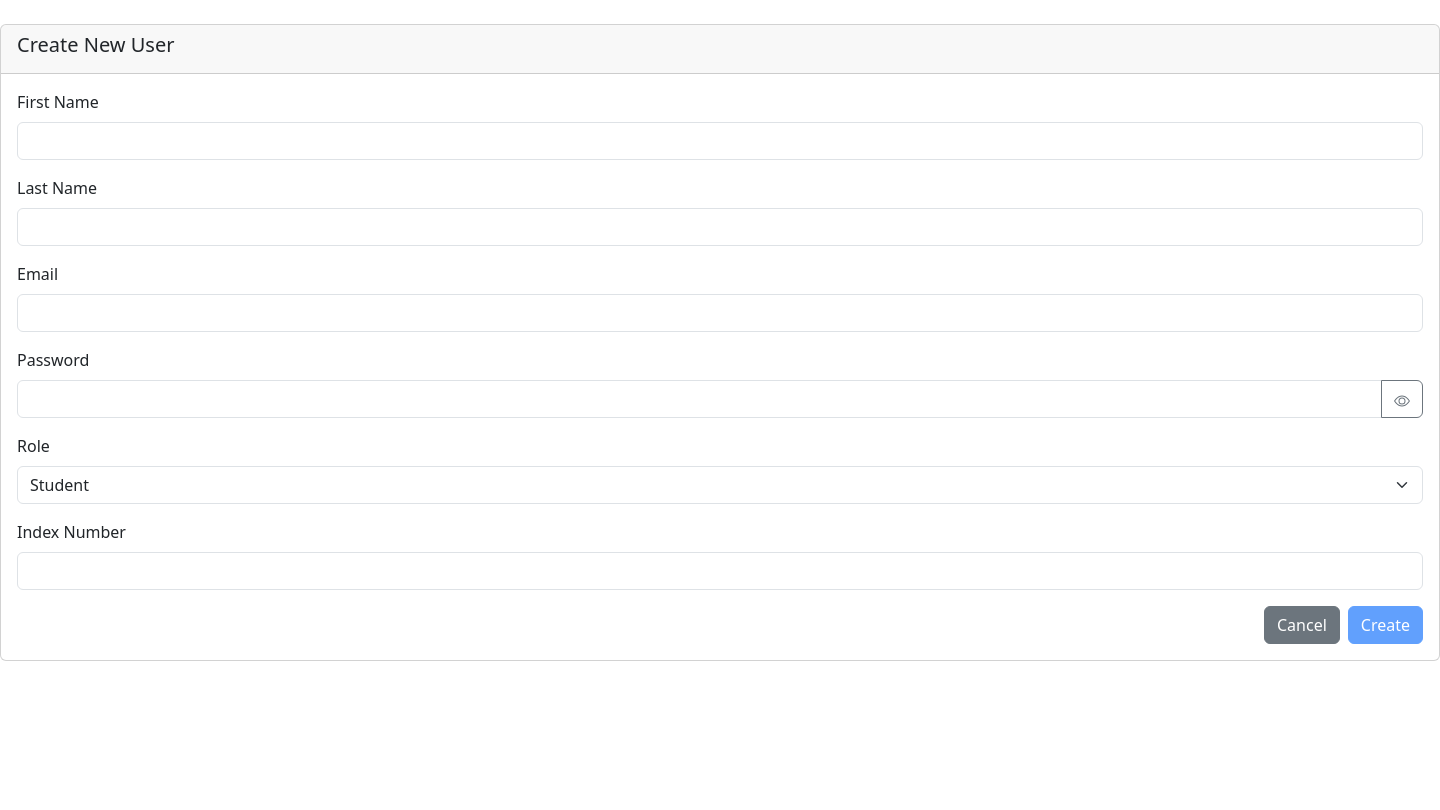
it: UserCreateForm submission › renders a server-side duplicate-email error under the Email field
This screenshot has width=1440, height=810.
Type "Ana" into the field labelled "First Name". click: (720,141)
box: [17,122,1423,160]
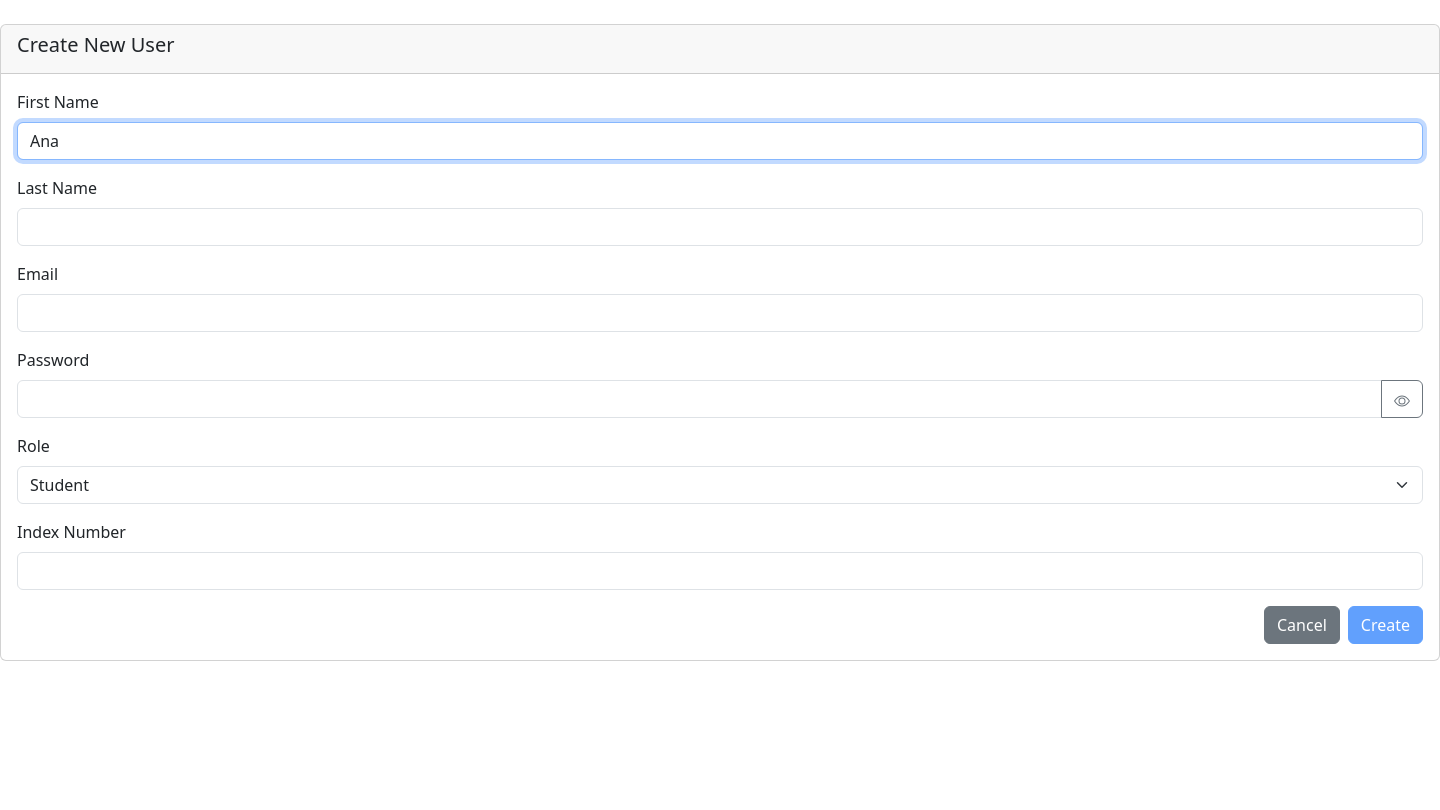
Type "Anić" into the field labelled "Last Name". click: (720,227)
box: [17,208,1423,246]
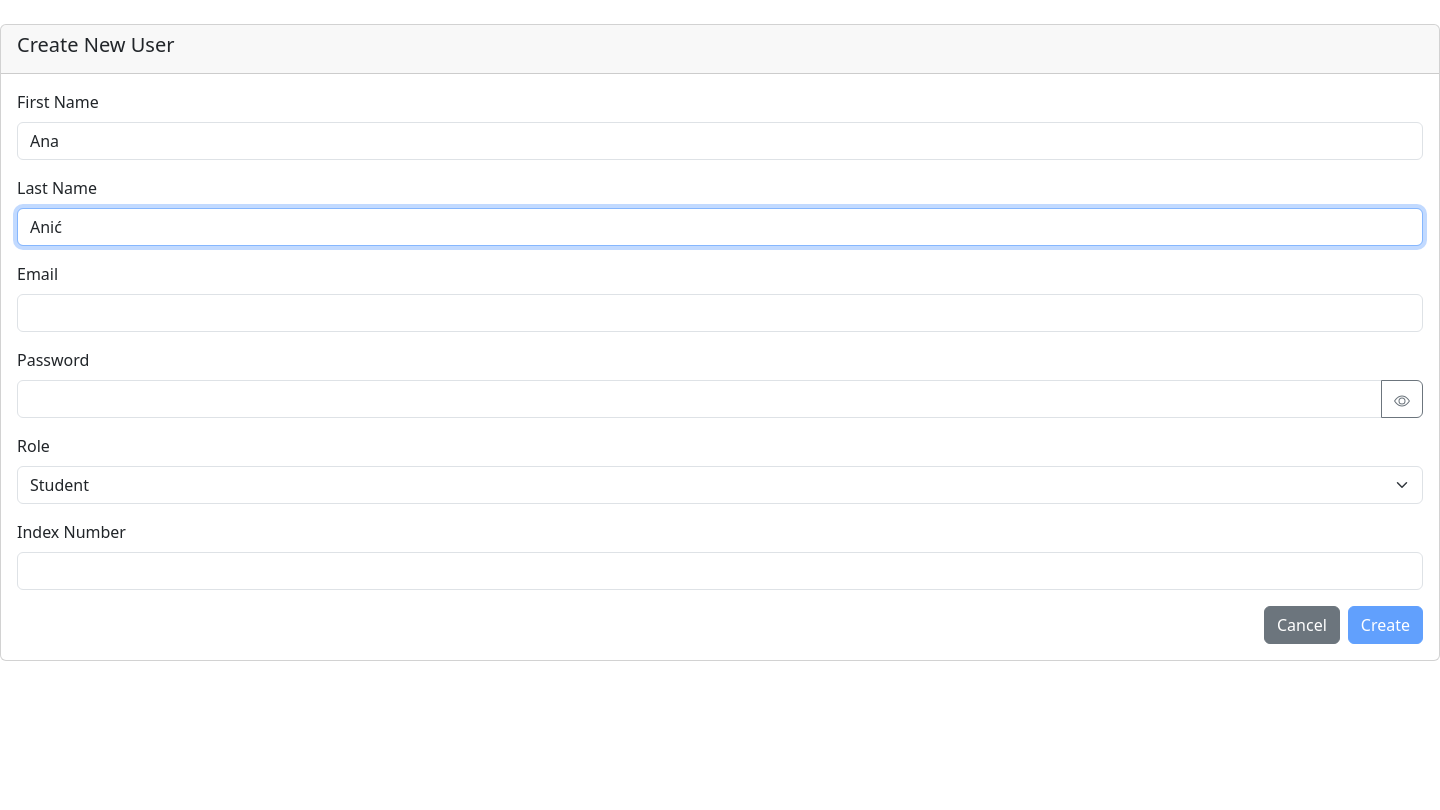
Type "ana@example.com" into the field labelled "Email". click: (720,313)
box: [17,294,1423,332]
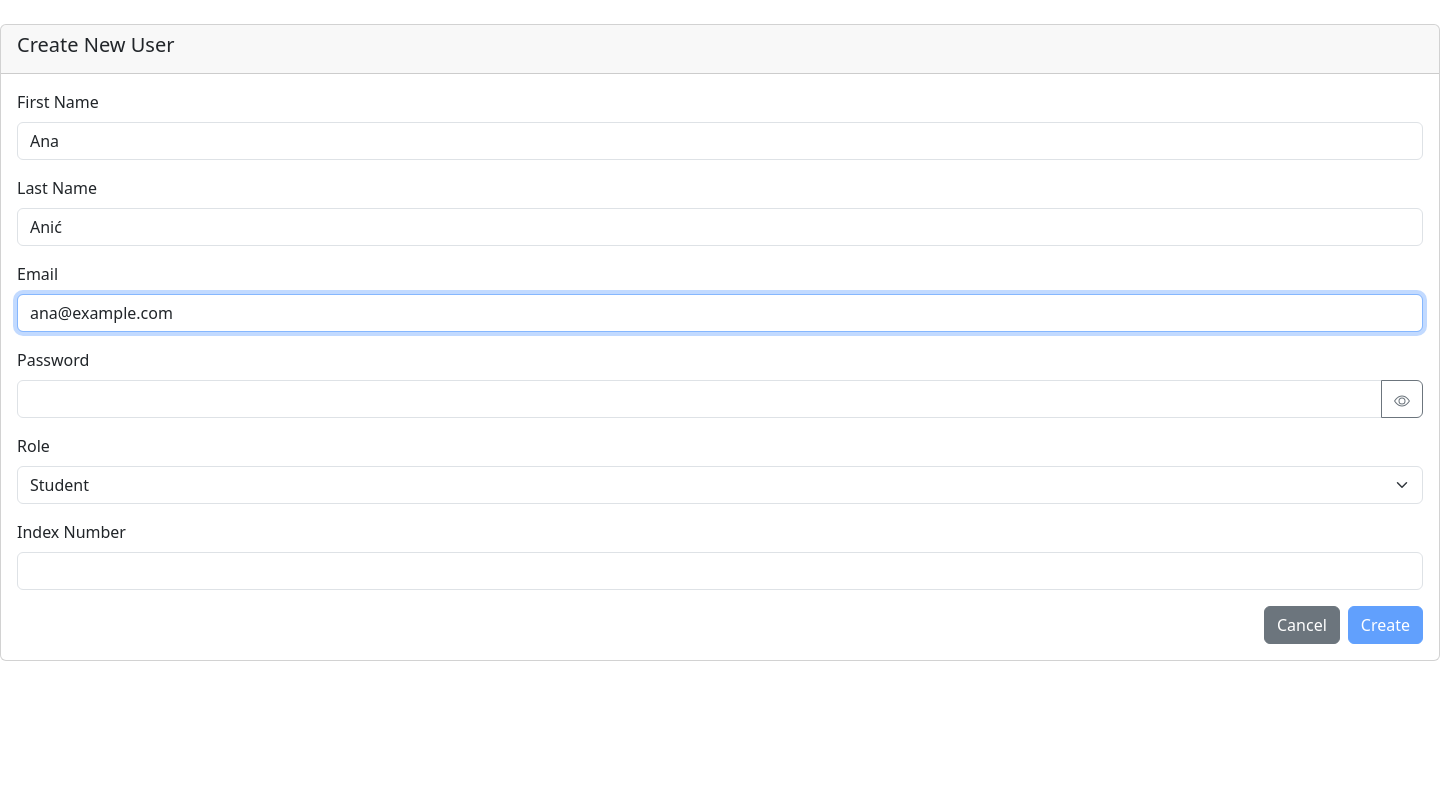
Type "TempPass!2024" into the password field labelled "Password". click: (700,399)
box: [17,380,1382,418]
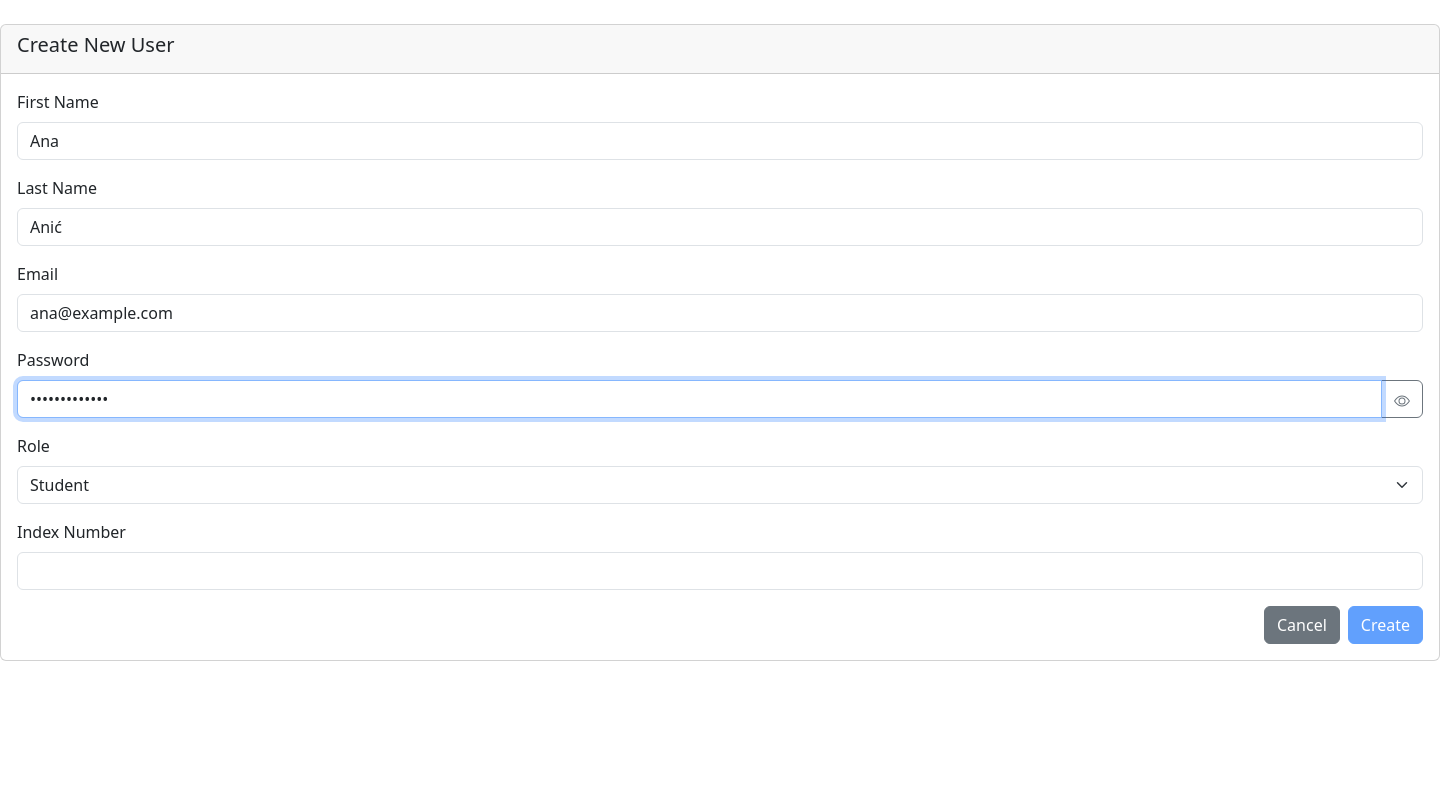
Type "E/123/22" into the field labelled "Index Number". click: (720,571)
box: [17,552,1423,590]
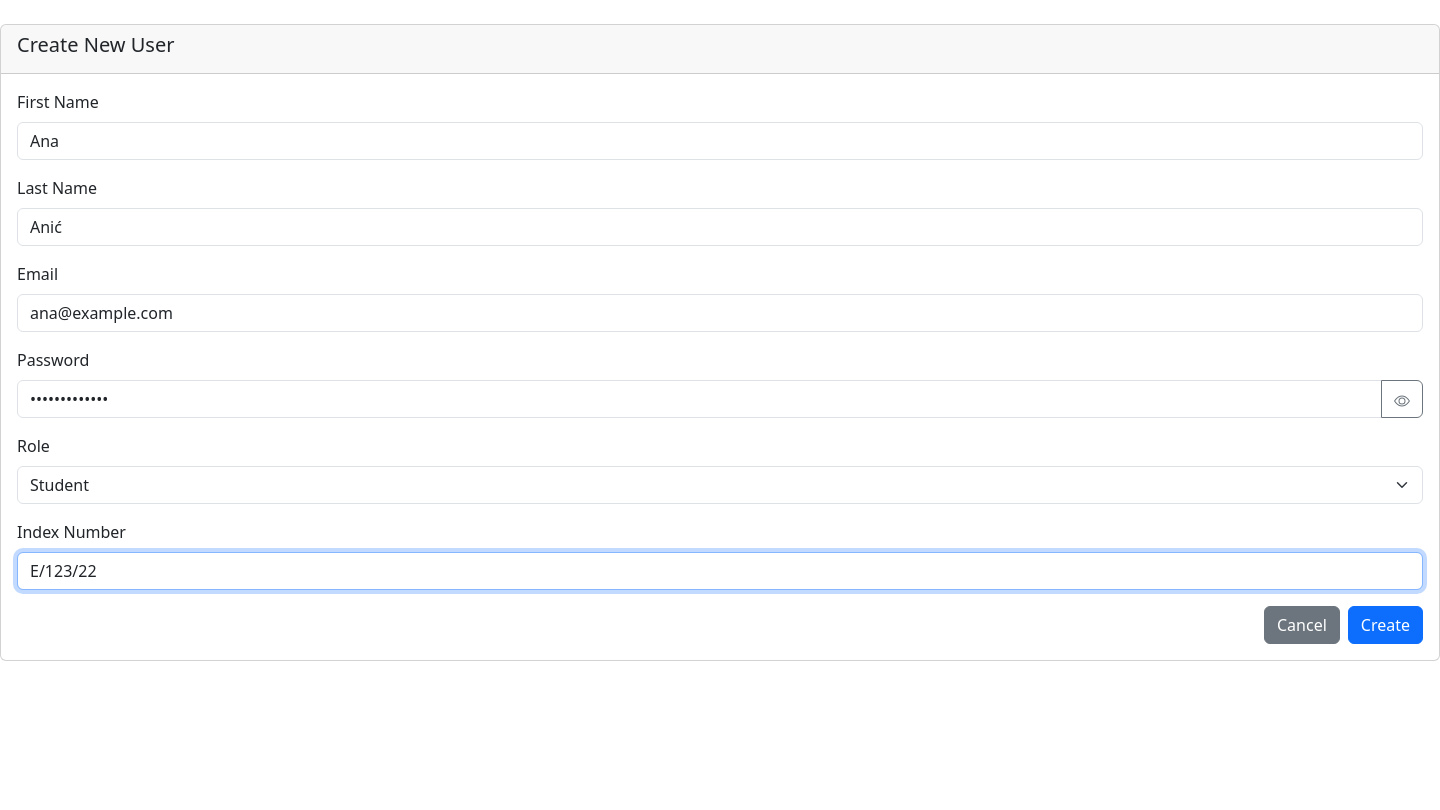
Click the button "Create". click: (1385,625)
box: [1348,606,1423,644]
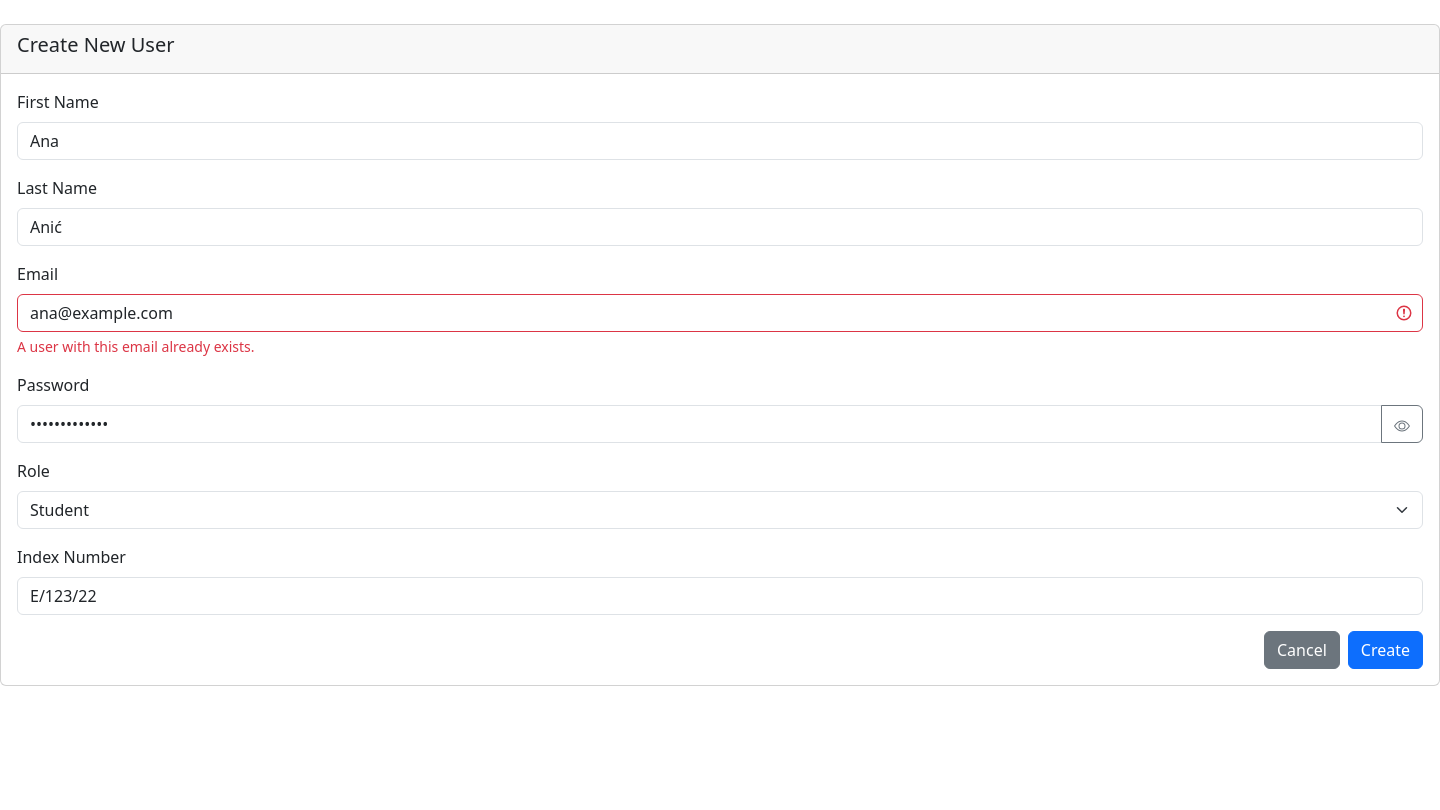
Result: the text "A user with this email already exists." is shown at [17,337,255,356]
